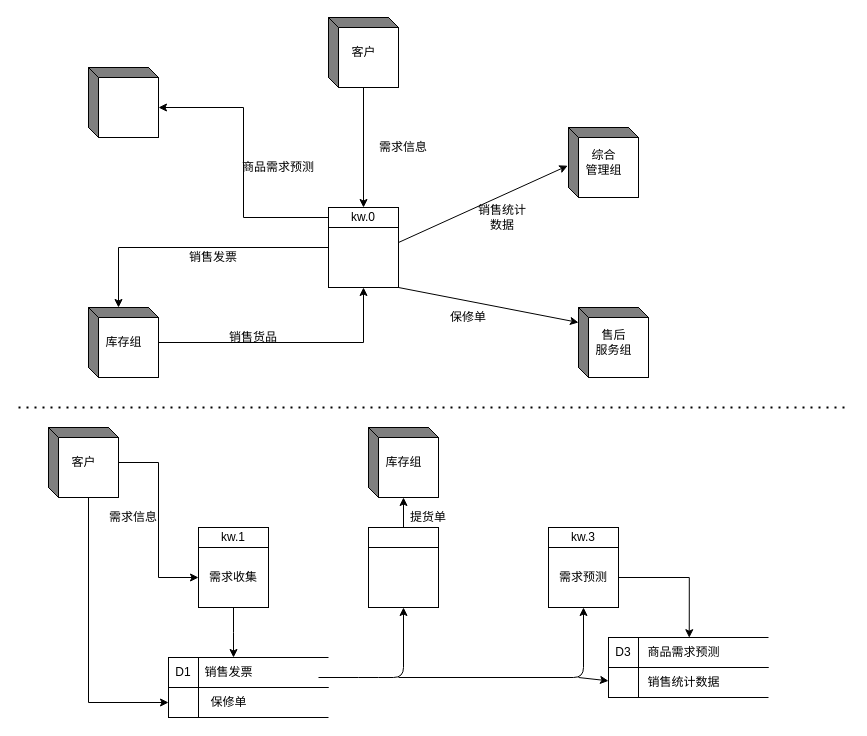
The diagram is 867 pixels wide and 736 high, and some of its shapes have lost their labels. Here are the shapes that lost their labels. From the top down, the centre of each, then its label:
At [123,102]: "采购组".
At [363,257]: "销售管理".
At [403,537]: "kw.2".
At [403,577]: "货物提取".
At [183,702]: "D2".
At [623,682]: "D4".
